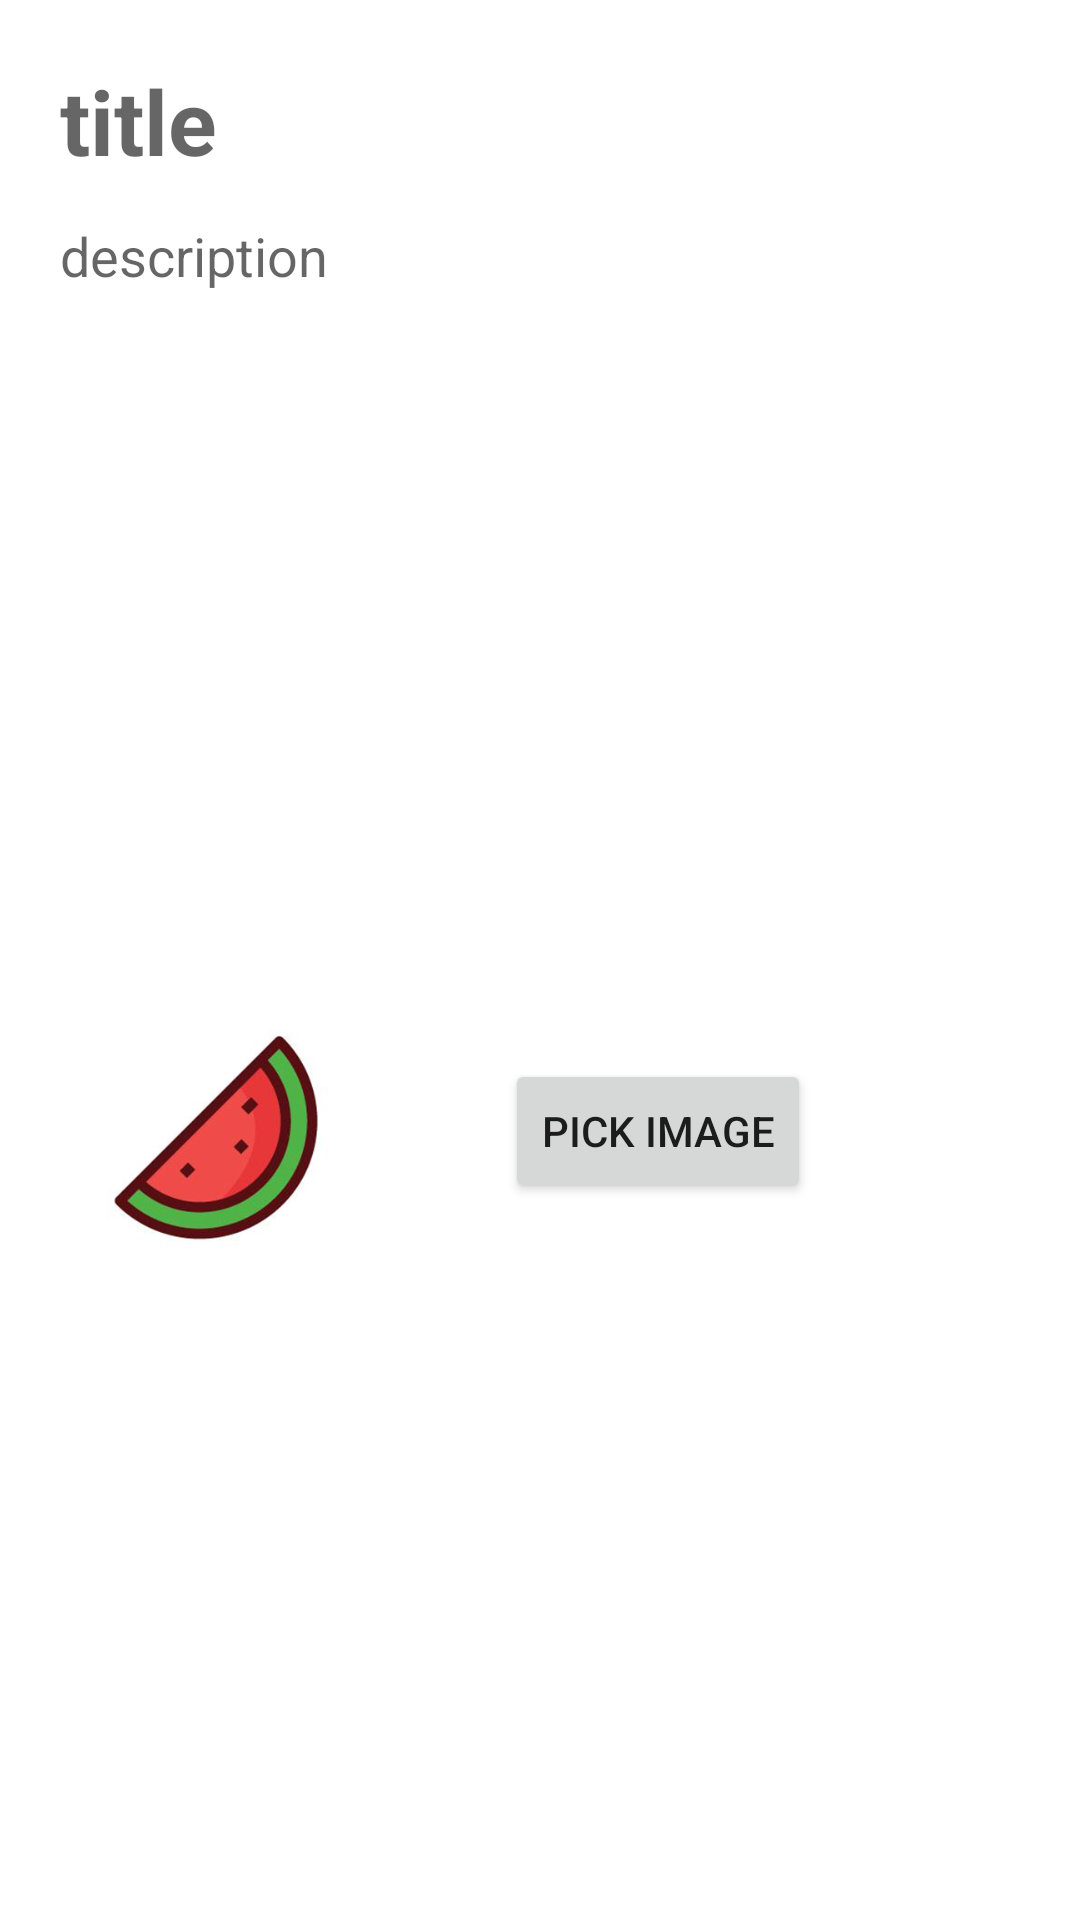

Where to tap for icons on this 1080 x 1920 app screen, as (x,y):
watermelon: (216,1138)
